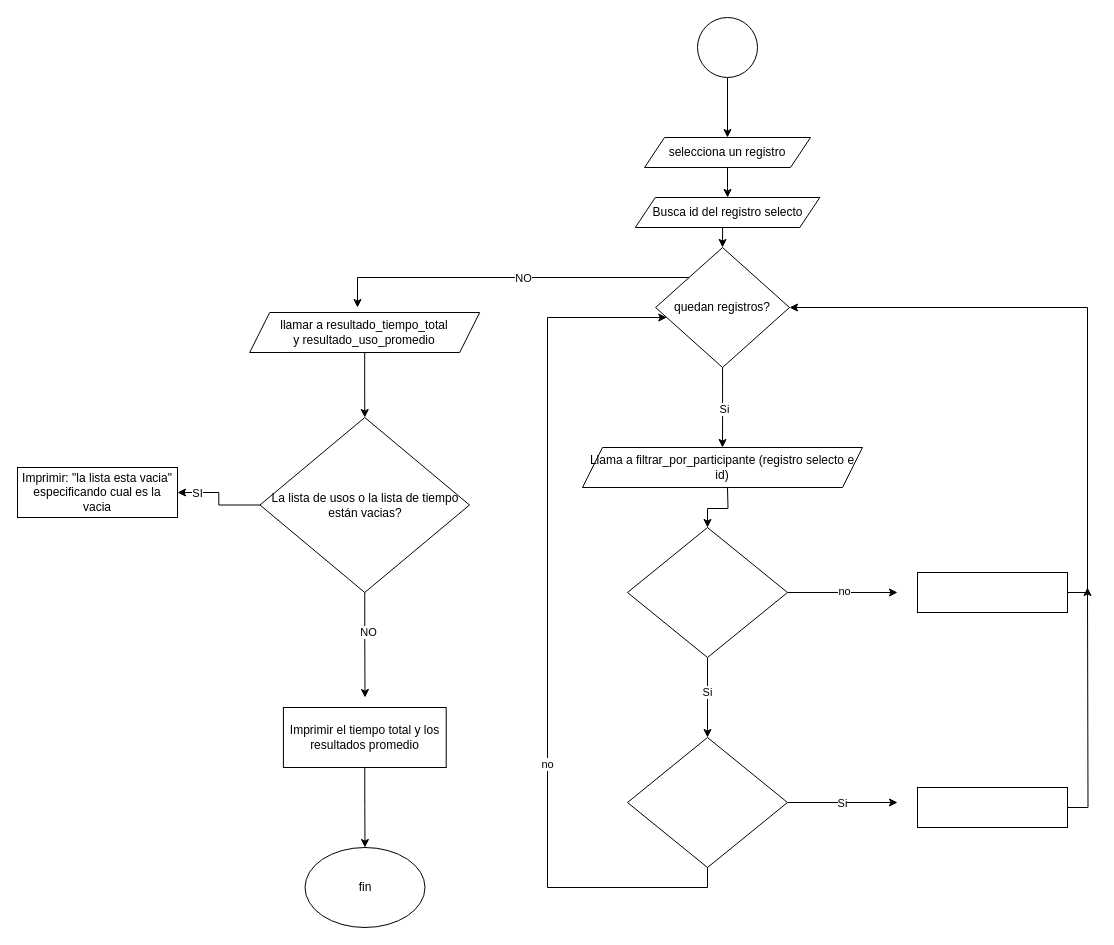
Image size: 1114x945. Some labels were removed from this diagram. Each missing label, with the box of its shape:
Imprimir: "la lista esta vacia": (916, 786, 1068, 828)
Imprimir: "no es lista": (916, 572, 1068, 612)
inicio: (696, 16, 758, 78)
la lista esta vacia?: (626, 736, 788, 868)
registro es una lista?: (626, 526, 788, 658)
